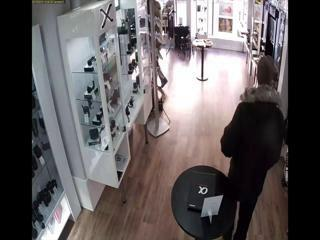Normal: (32, 0, 150, 213), (219, 55, 287, 240)
